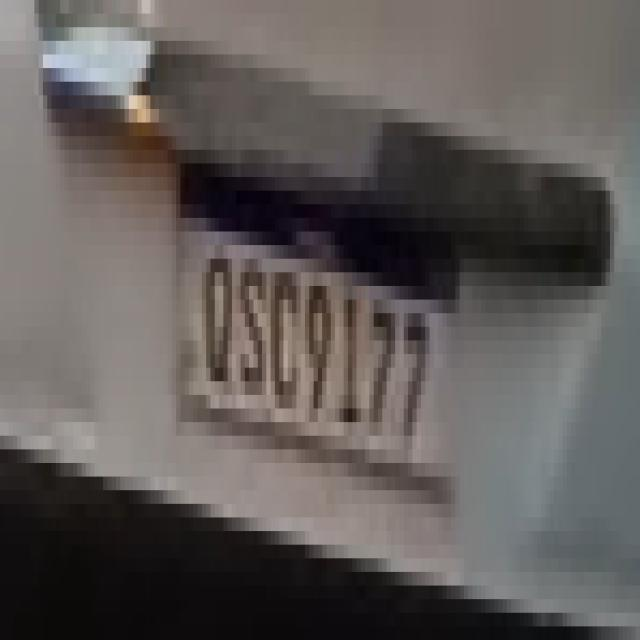Placa_mercosul_carro: (179, 167, 459, 506)
